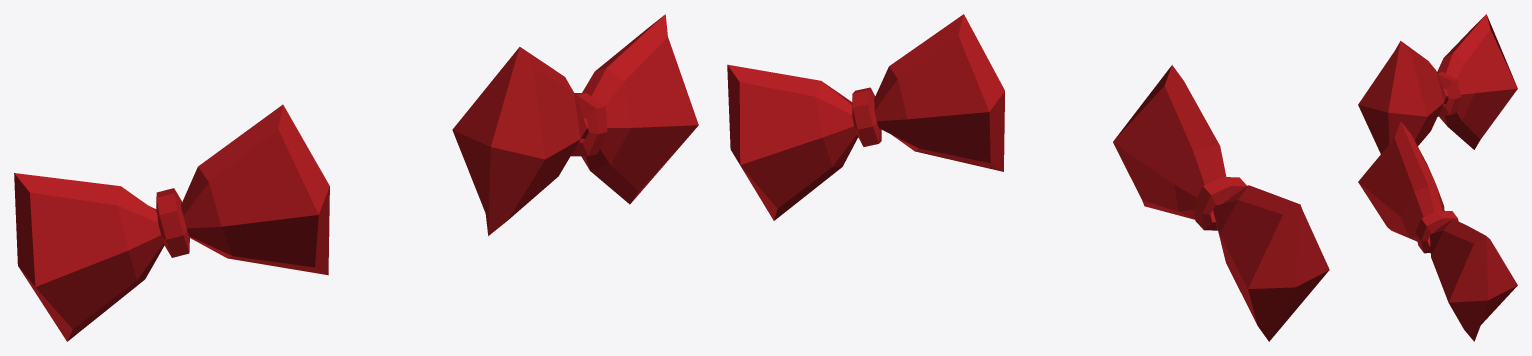
Rendered from Bow_V1.0 1.fbx.
The picture shows the model from 3 angles, left to right: view 1: azimuth 30°, elevation 25°; view 2: azimuth 150°, elevation 25°; view 3: azimuth 270°, elevation 25°; orthographic projection. The views are drawn at different scales.
Parts seen in each view (by area): view 1: Bow; view 2: Bow; view 3: Bow.
Part boxes in pixels (x1,y1,x2,y2): Bow: (14, 14, 698, 341); Bow: (727, 14, 1329, 341); Bow: (1358, 14, 1517, 341).
Size of the model in its own units: 25.16 by 8.57 by 7.53.
